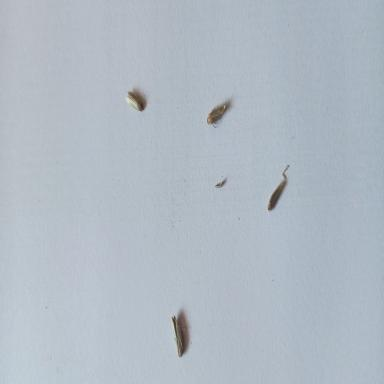pbw: (264, 160, 292, 216), (169, 308, 189, 362), (203, 98, 228, 135), (122, 85, 146, 116)
